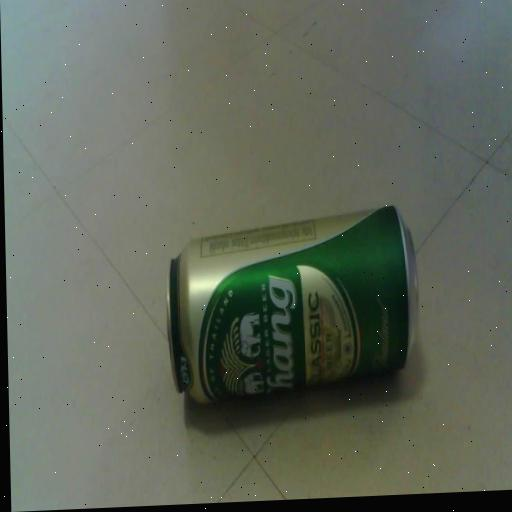canned: (161, 185, 432, 425)
